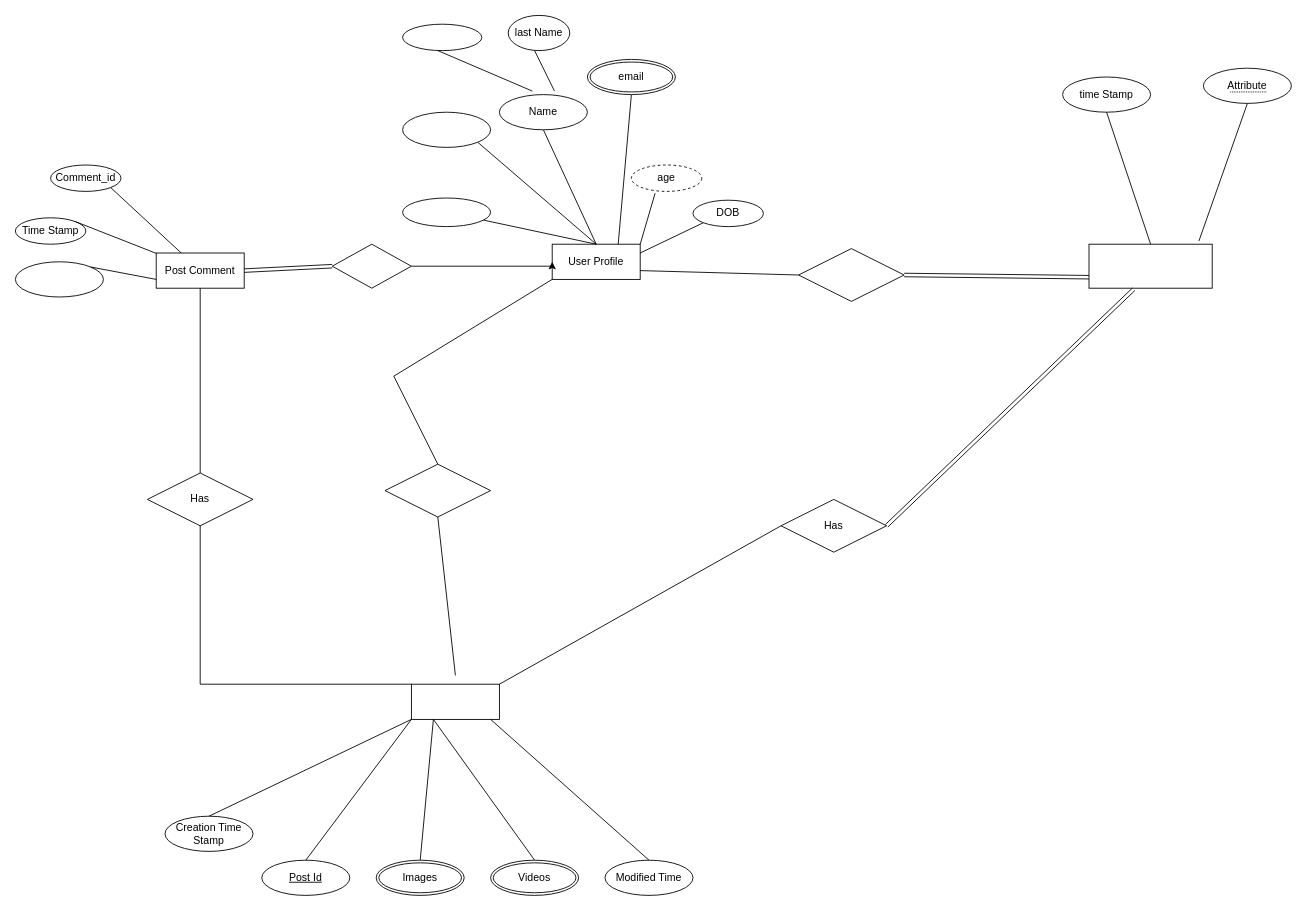
The diagram is 1307 pixels wide and 911 high, and some of its shapes have lost their labels. The centre of each missing label's shape, as x and y in pixels:
"Can" belongs at point (851, 274).
"comments" belongs at point (371, 265).
"Content" belongs at point (59, 279).
"First Name" belongs at point (442, 37).
"password" belongs at point (446, 129).
"Post Like" belongs at point (1150, 265).
"posts" belongs at point (437, 490).
"User posts" belongs at point (455, 701).
"UserName" belongs at point (446, 212).
